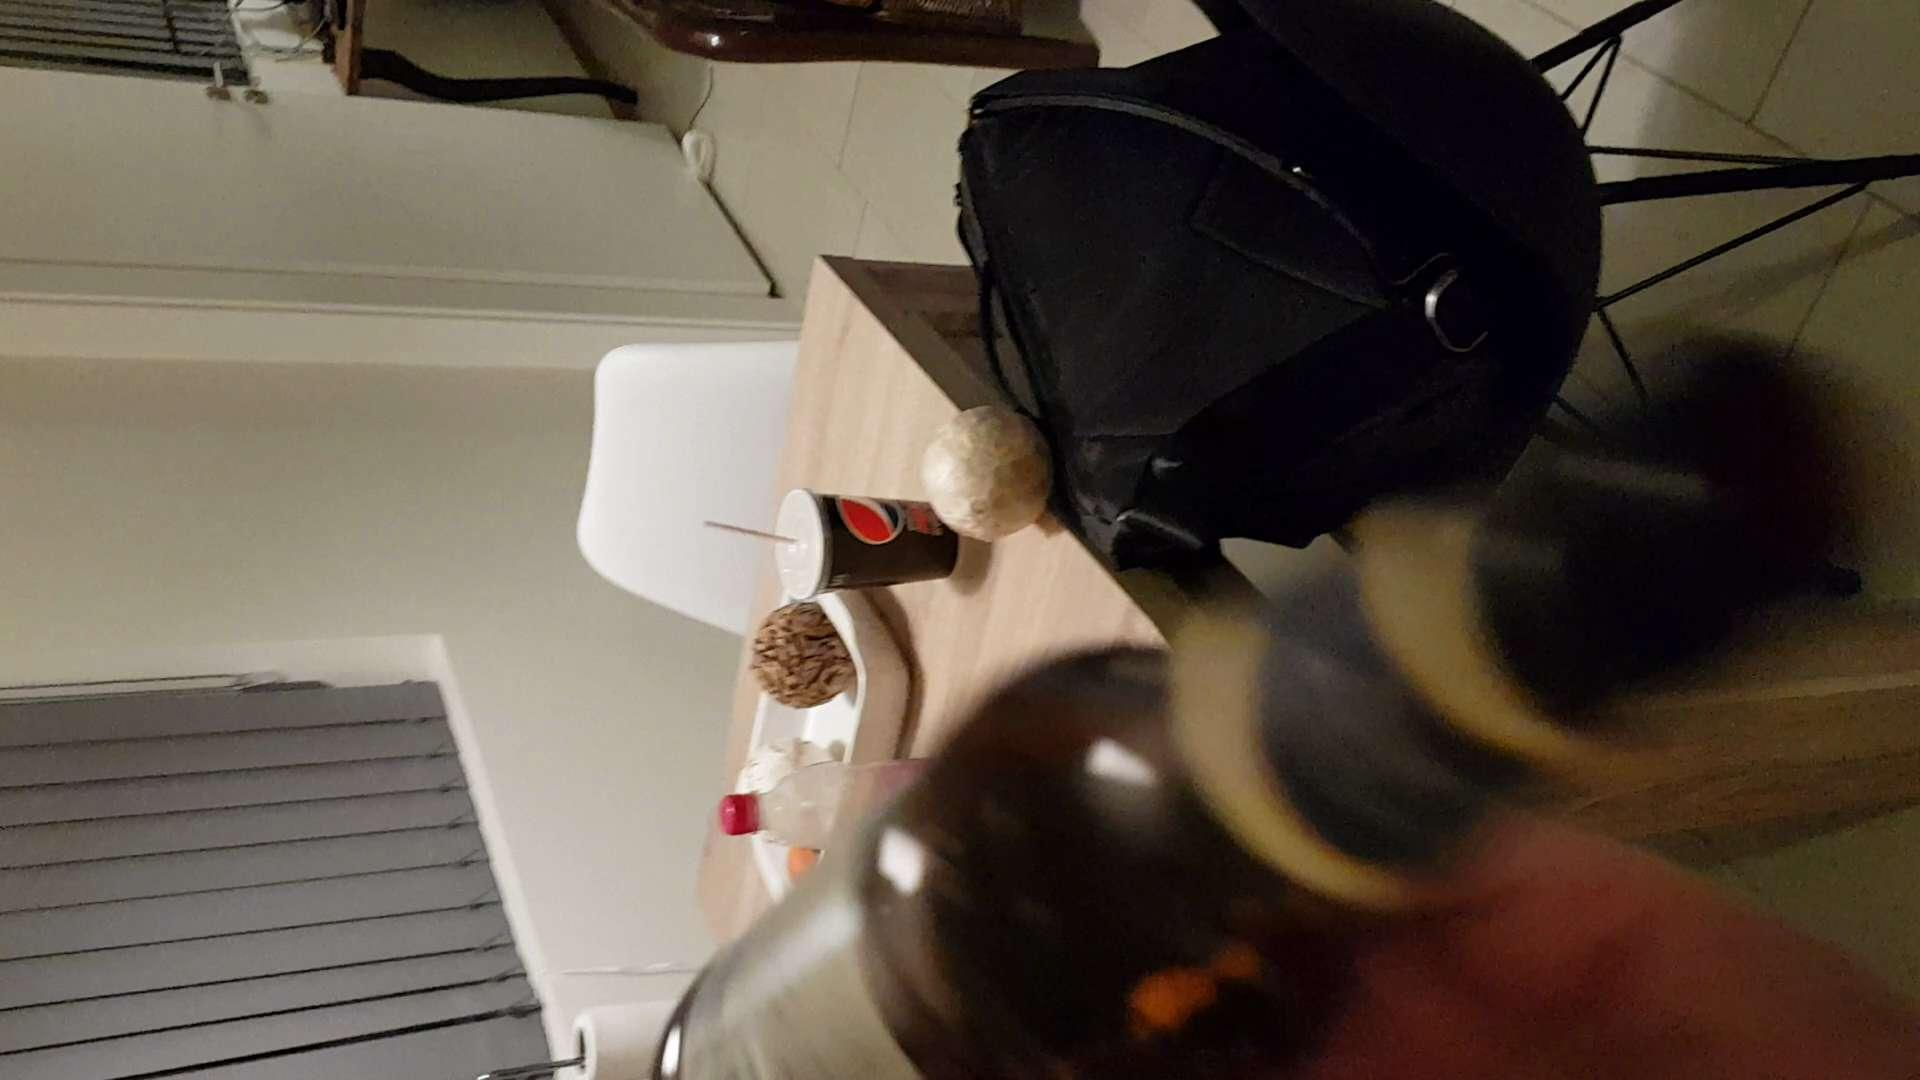Bottle: (644, 330, 1888, 1080)
Sphere: (911, 400, 1071, 551), (736, 599, 876, 702)
